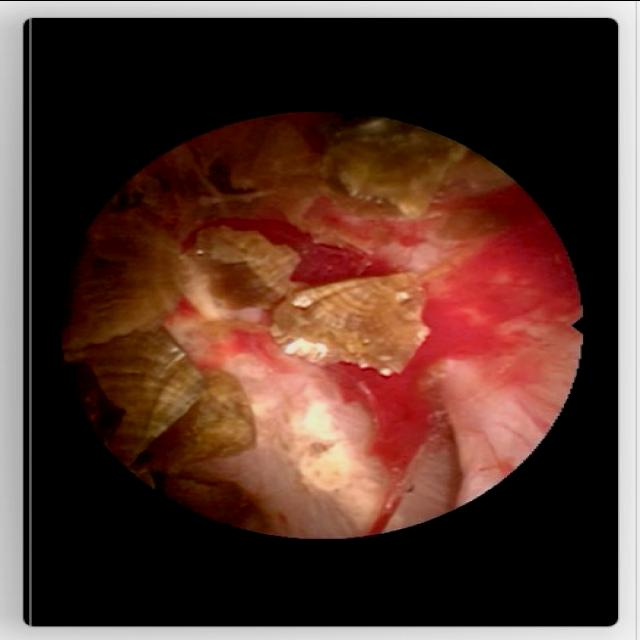stone: (70, 213, 202, 460), (319, 121, 503, 212), (271, 272, 423, 369), (152, 369, 253, 469), (181, 230, 297, 312), (241, 123, 312, 214), (169, 478, 260, 528)
